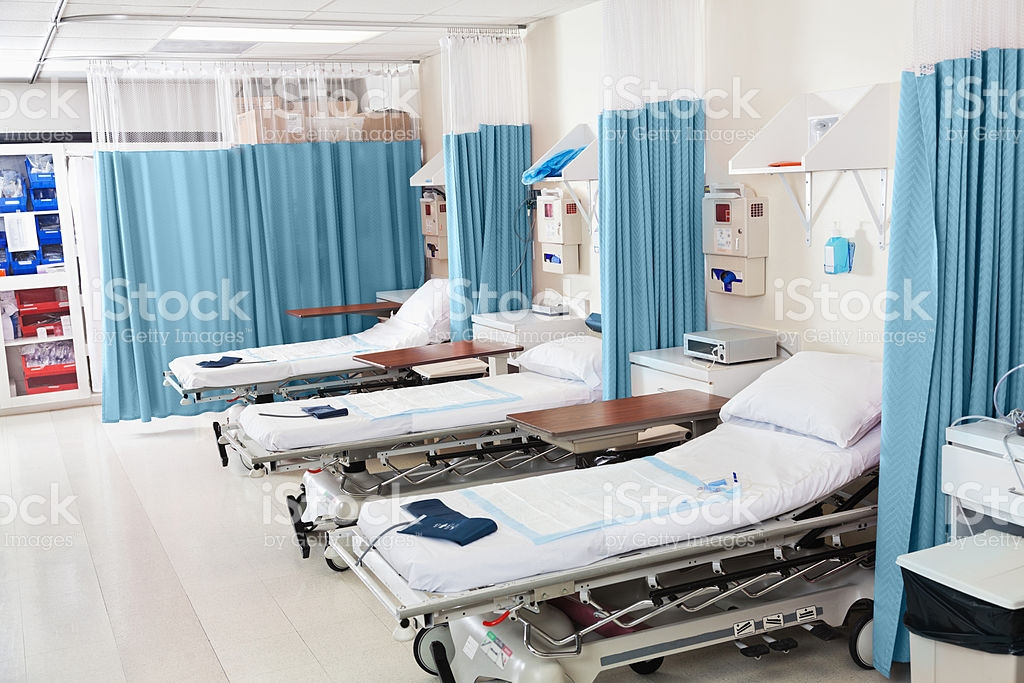hospital bed: (297, 354, 916, 637), (187, 313, 625, 491), (152, 267, 465, 403)
